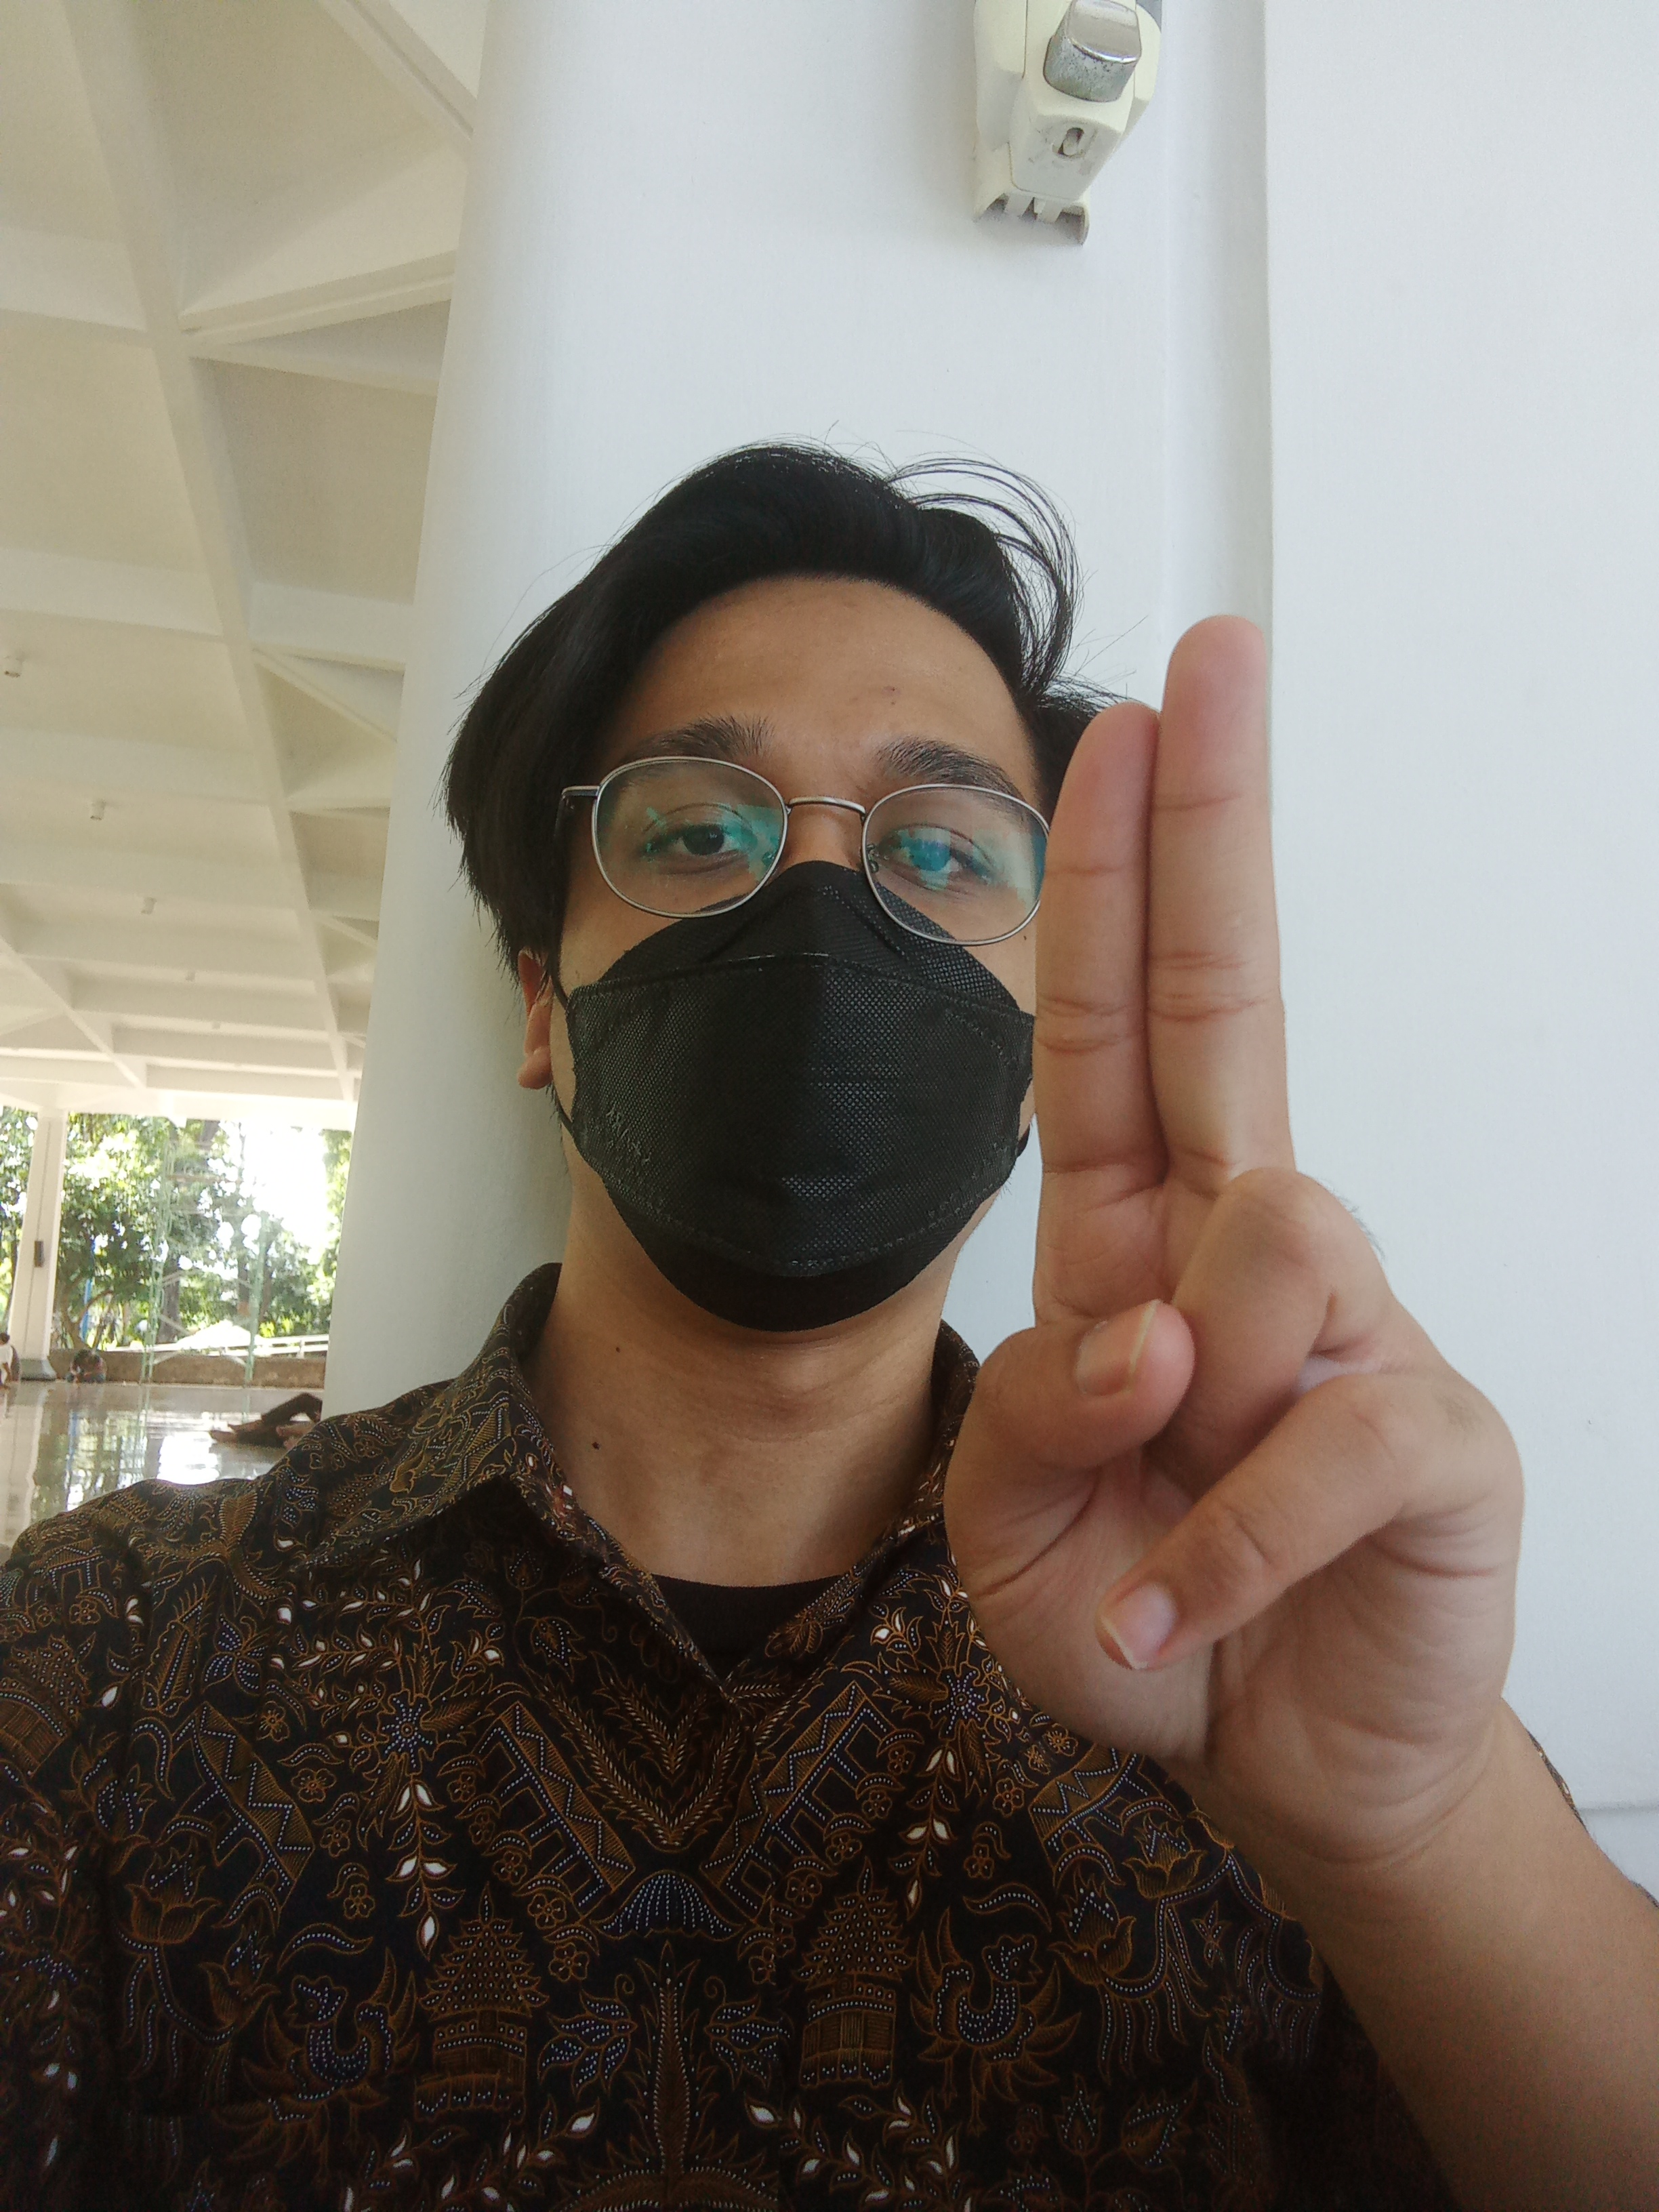U: (934, 583, 1549, 1846)
